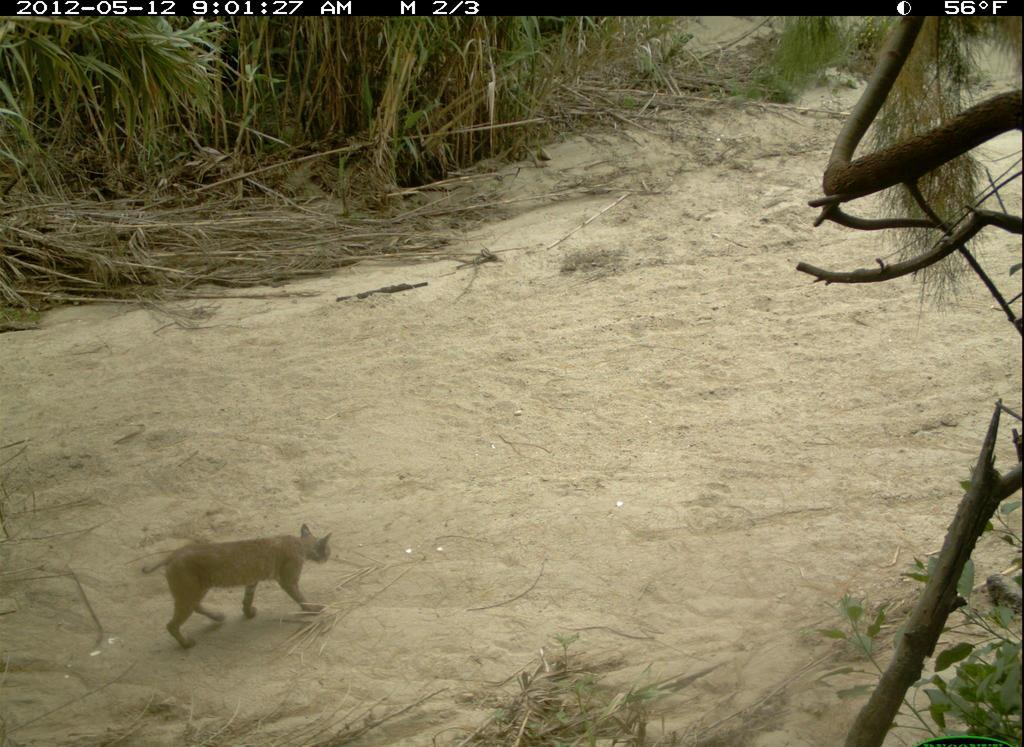bobcat: (159, 519, 340, 657)
